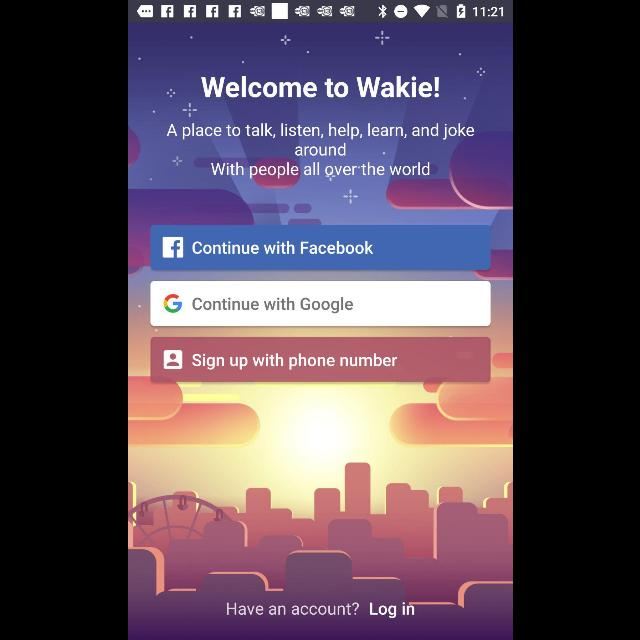backgroundimage: (128, 22, 512, 640)
text: (166, 123, 474, 179), (200, 76, 438, 98), (226, 602, 358, 614), (369, 602, 413, 618)
textbutton: (150, 224, 490, 270), (150, 282, 490, 326), (150, 338, 490, 382)
uppertaskbar: (128, 1, 512, 23)
